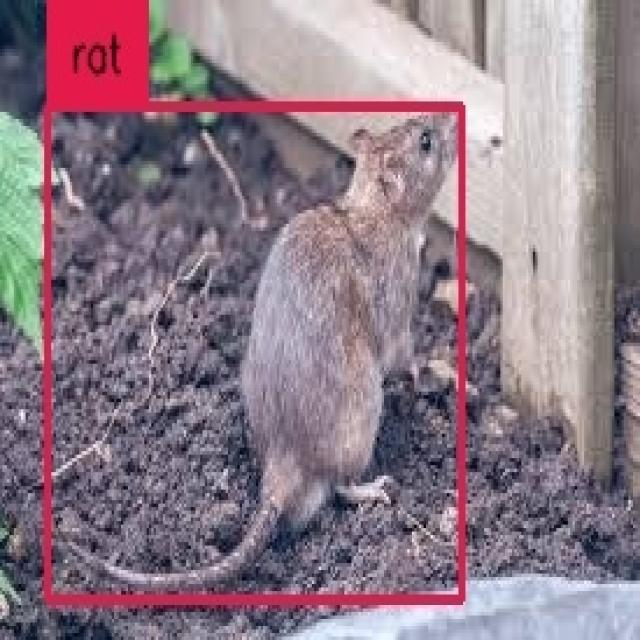rat: (47, 108, 463, 598)
